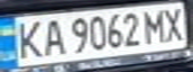0: (87, 12, 109, 52)
2: (121, 9, 145, 47)
6: (106, 11, 127, 50)
9: (66, 15, 90, 54)
A: (39, 16, 66, 56)
K: (9, 17, 48, 61)
M: (139, 7, 169, 44)
X: (160, 4, 190, 43)
